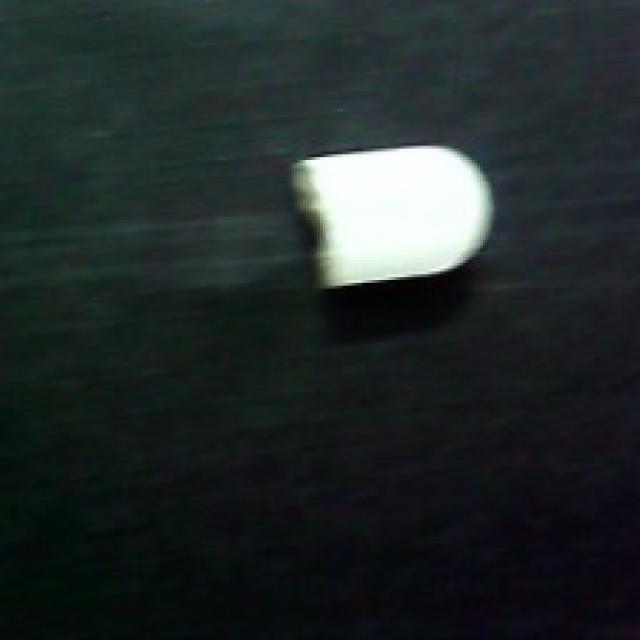defected: (287, 134, 506, 295)
